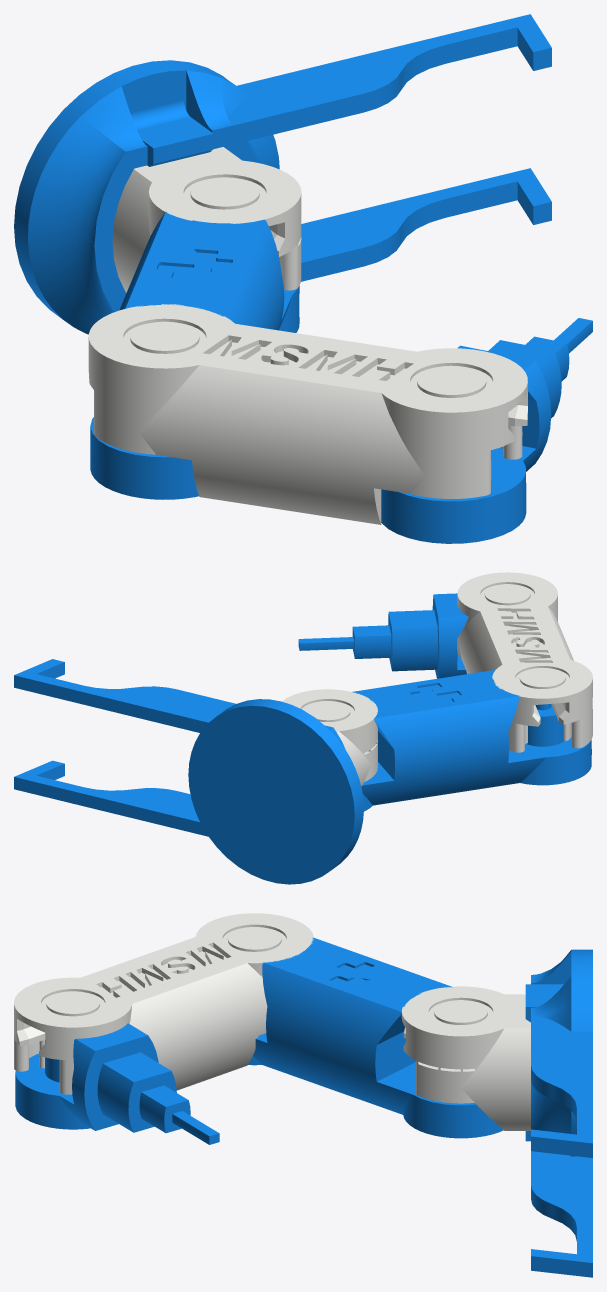
Rendered from Robot Arm Assembly v2.fbx.
3 renders of one model, top to bottom at view 1: azimuth 30°, elevation 25°; view 2: azimuth 150°, elevation 25°; view 3: azimuth 270°, elevation 25°, orthographic. The views are drawn at different scales.
Parts seen in each view (by area): view 1: Body5 (1) (1), Seg1 v3, Seg3, Seg2, Body4; view 2: Seg1 v3, Seg3, Body5 (1) (1), Body4, Seg2; view 3: Body5 (1) (1), Seg3, Seg1 v3, Seg2, Body4.
Part boxes in pixels (x1=…): Body5 (1) (1): x1=88, y1=304, x2=527, y2=524; Seg1 v3: x1=14, y1=14, x2=551, y2=334; Seg3: x1=90, y1=211, x2=299, y2=499; Seg2: x1=112, y1=147, x2=301, y2=292; Body4: x1=381, y1=318, x2=592, y2=543; Seg1 v3: x1=14, y1=659, x2=363, y2=884; Seg3: x1=352, y1=670, x2=591, y2=811; Body5 (1) (1): x1=457, y1=572, x2=592, y2=752; Body4: x1=298, y1=593, x2=468, y2=678; Seg2: x1=282, y1=689, x2=377, y2=786; Body5 (1) (1): x1=14, y1=913, x2=313, y2=1094; Seg3: x1=248, y1=937, x2=503, y2=1138; Seg1 v3: x1=525, y1=949, x2=592, y2=1277; Seg2: x1=401, y1=986, x2=530, y2=1130; Body4: x1=15, y1=1023, x2=219, y2=1144.
Bounding box in the file's own units: 108 × 42 × 107.
